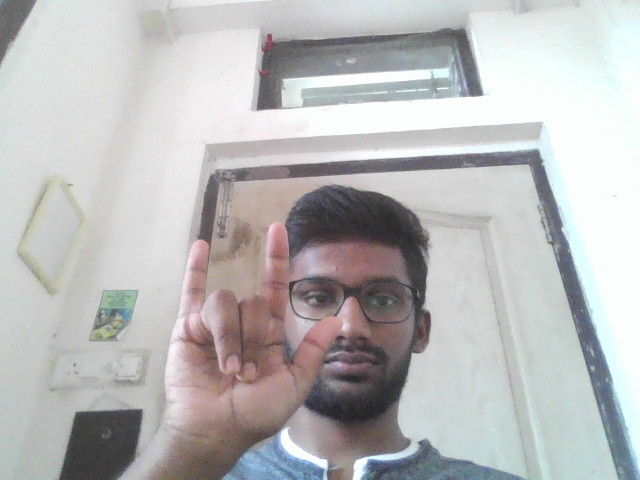I Love You: (161, 219, 343, 433)
